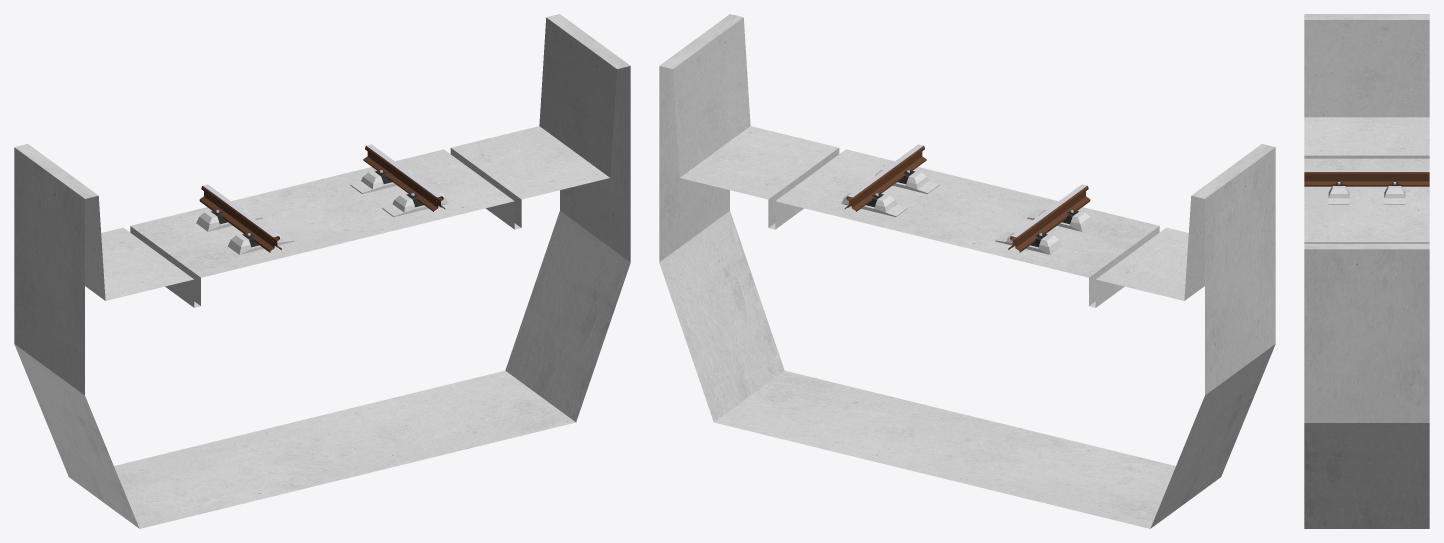
File: msd_rail_viaduct_both_side.obj
The picture shows the model from 3 angles, left to right: view 1: azimuth 30°, elevation 25°; view 2: azimuth 150°, elevation 25°; view 3: azimuth 270°, elevation 25°; orthographic projection. The views are drawn at different scales.
Visible parts, largest first — view 1: cuboid; view 2: cuboid; view 3: cuboid.
Part boxes in pixels (x1,y1,x2,y2): cuboid: (14,14,630,528); cuboid: (659,14,1275,528); cuboid: (1304,14,1429,528).
Size of the model in its own units: 5 by 3.01 by 1.12.
5 materials, 4 textured.
